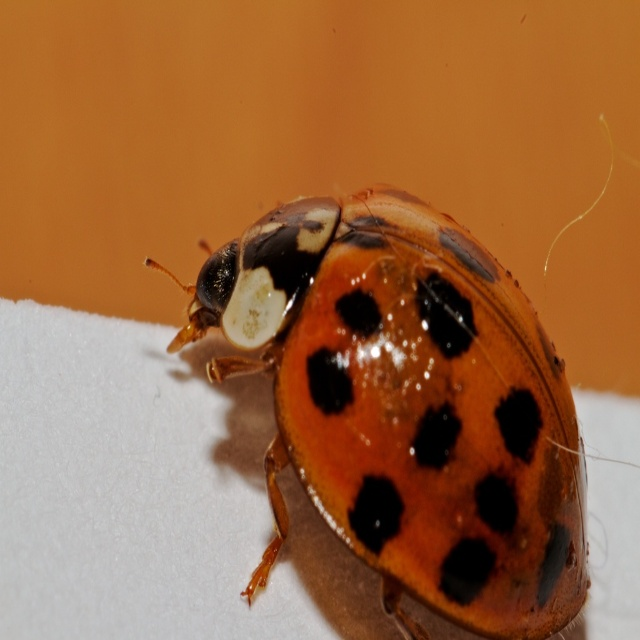Ladybug: (145, 118, 640, 639)
